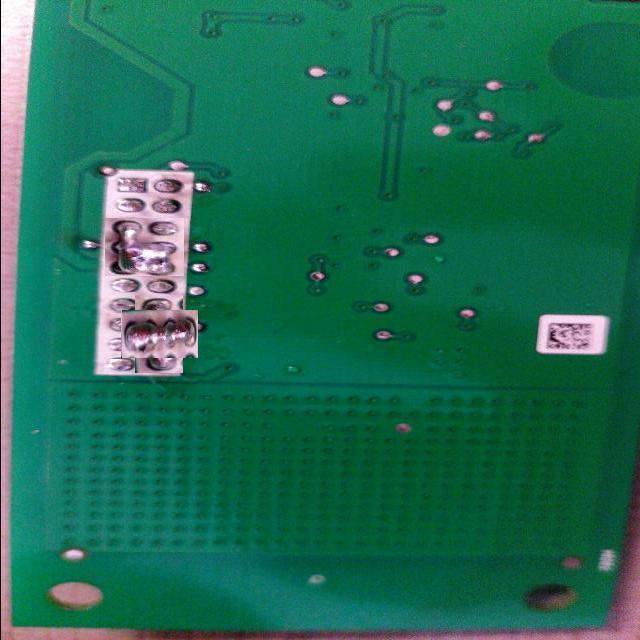Short_circuit: (106, 218, 186, 276), (128, 303, 190, 366)
